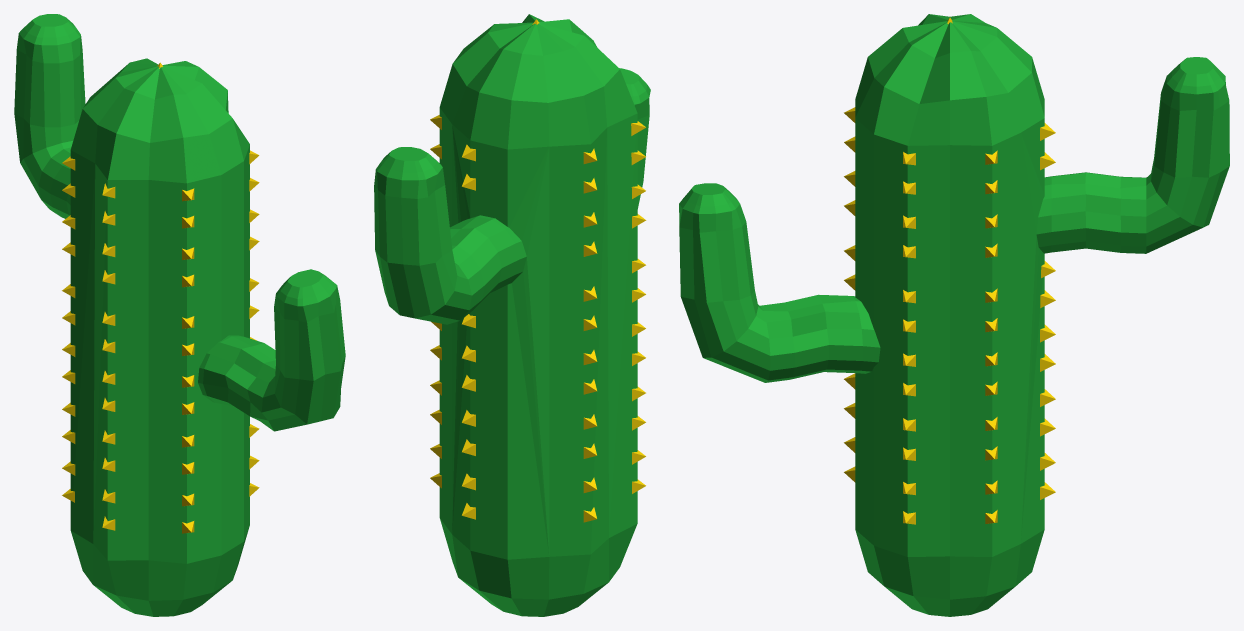
Rendered from Cactus.fbx.
The picture shows the model from 3 angles, left to right: view 1: azimuth 30°, elevation 25°; view 2: azimuth 150°, elevation 25°; view 3: azimuth 270°, elevation 25°; orthographic projection. The views are drawn at different scales.
Parts seen in each view (by area): view 1: Cactus; view 2: Cactus; view 3: Cactus.
Part boxes in pixels (x1,y1,x2,y2): Cactus: (14,14,345,616); Cactus: (374,14,650,616); Cactus: (679,14,1229,616).
Bounding box in the file's own units: 61.23 × 201 × 170.
